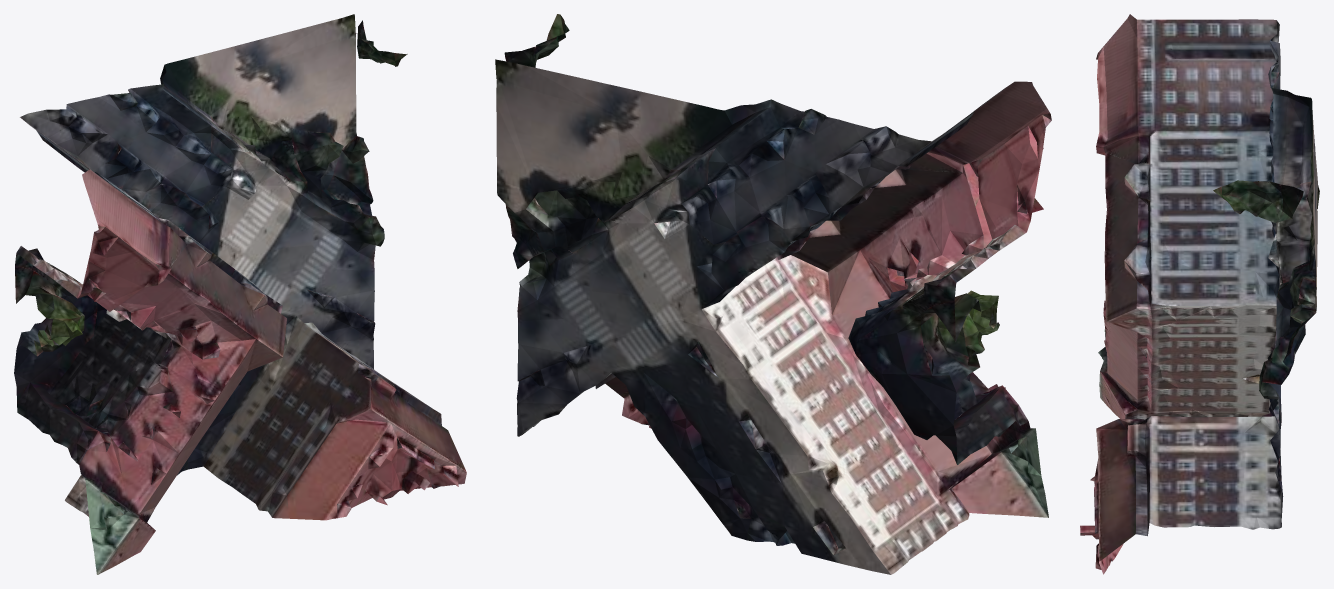
File: Tile_+031_+022_L18_00002.obj
The picture shows the model from 3 angles, left to right: view 1: azimuth 30°, elevation 25°; view 2: azimuth 150°, elevation 25°; view 3: azimuth 270°, elevation 25°; orthographic projection. The views are drawn at different scales.
Size of the model in its own units: 63 by 63.5 by 35.98.
1 material, 1 textured.
